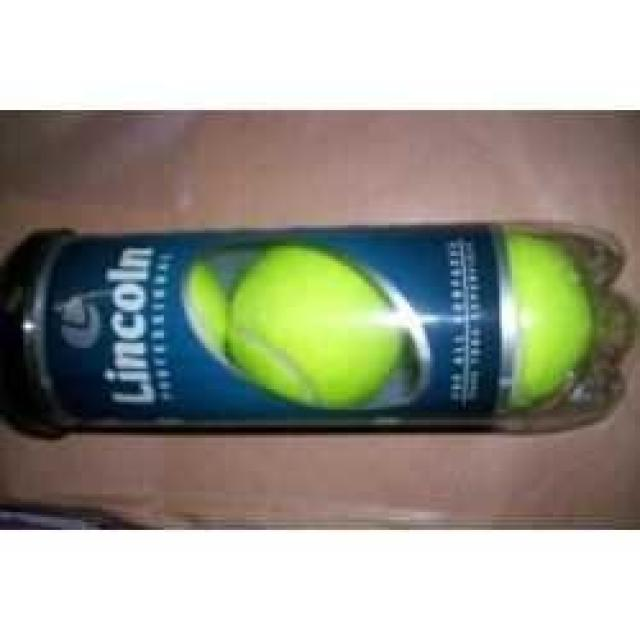Tennis_Ball: (232, 243, 397, 407)
